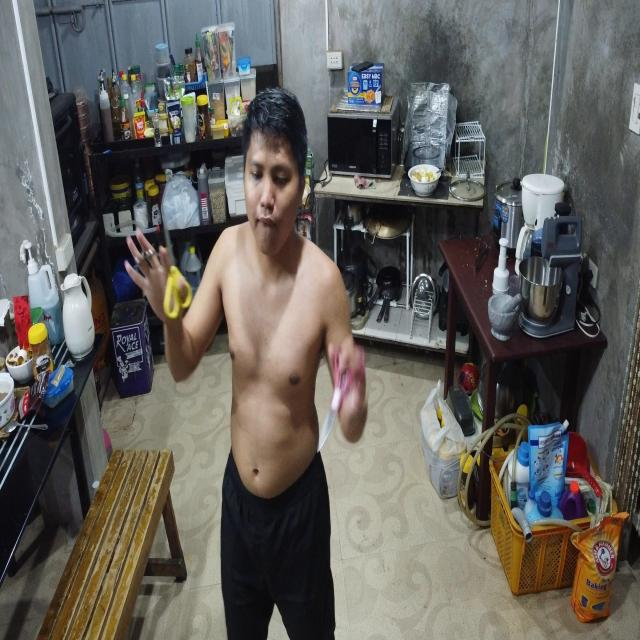scissor: (163, 211, 192, 318)
